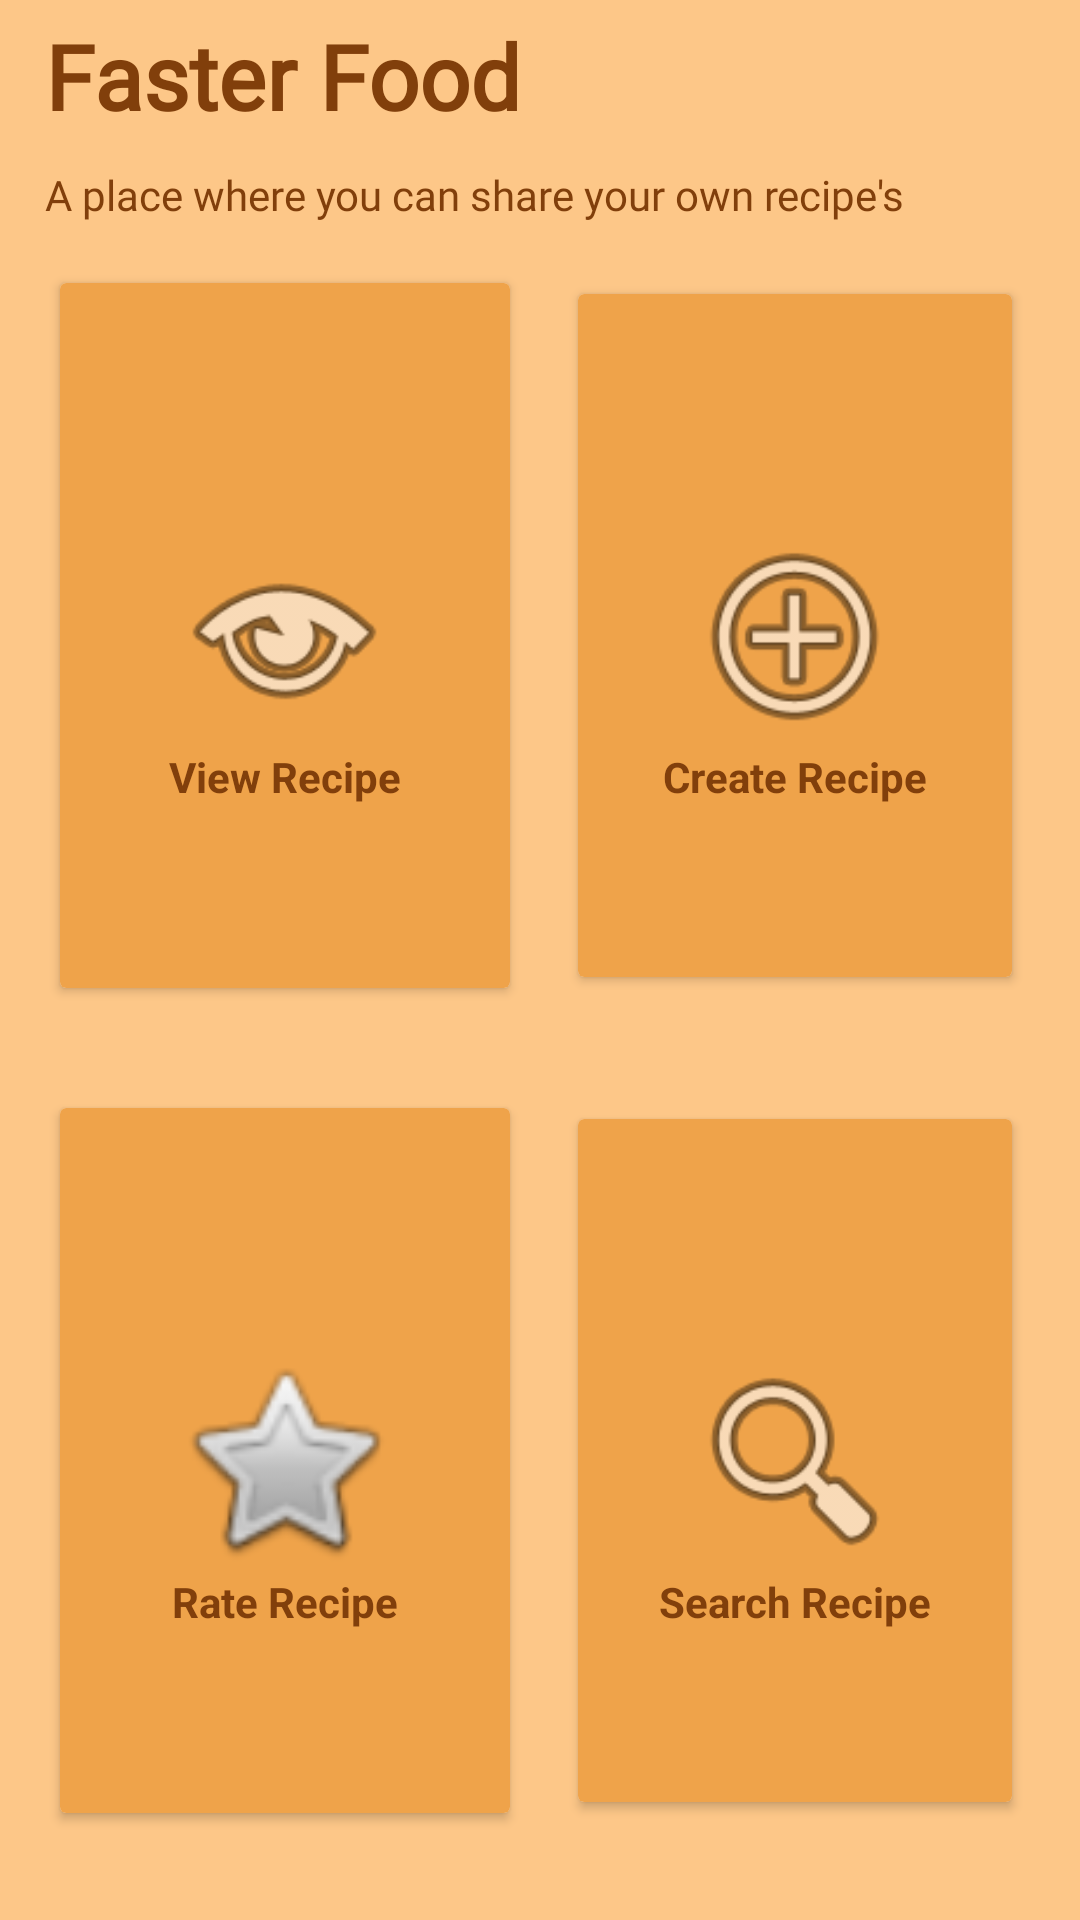

Screen size 1080 × 1920. Icon name, then its box in pixels as {"left": x1, "top": y1, "right": x2, "bottom": y2}:
add: {"left": 711, "top": 553, "right": 878, "bottom": 720}
star: {"left": 192, "top": 1371, "right": 380, "bottom": 1554}
